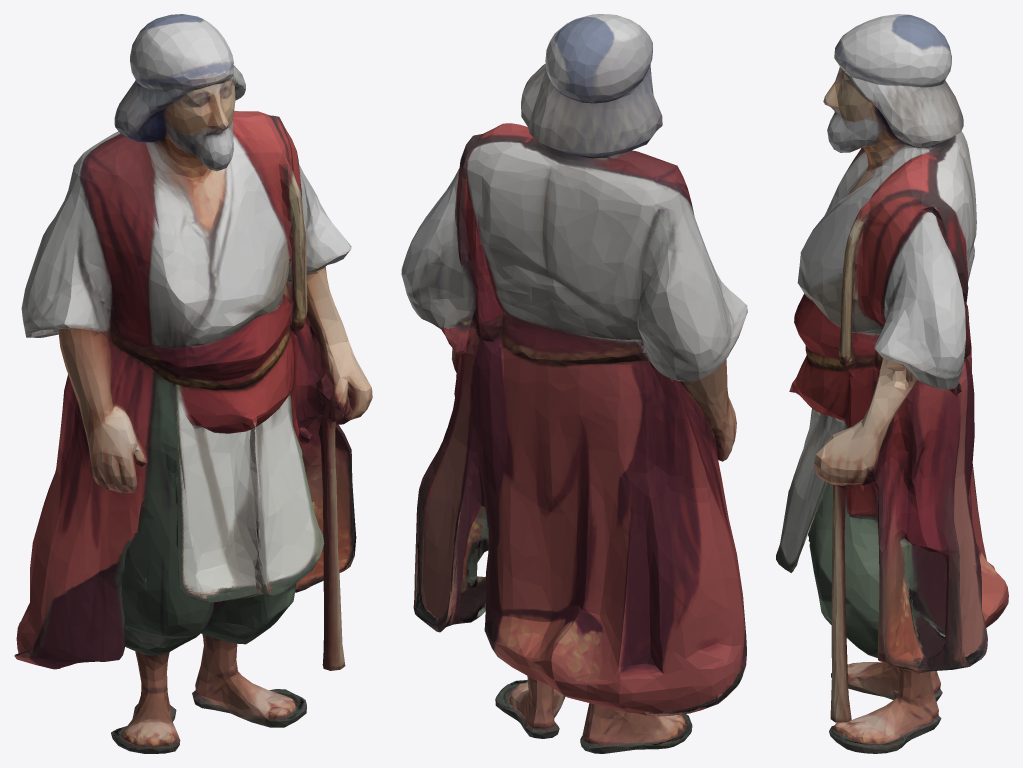
Rendered from anime_commoner_m.glb.
The picture shows the model from 3 angles, left to right: view 1: azimuth 30°, elevation 25°; view 2: azimuth 150°, elevation 25°; view 3: azimuth 270°, elevation 25°; orthographic projection. The views are drawn at different scales.
Visible parts, largest first — view 1: world; view 2: world; view 3: world.
Part boxes in pixels (box(x1,y1,x2,y2)): world: box(14, 14, 372, 753); world: box(401, 14, 747, 753); world: box(776, 14, 1008, 753).
Bounding box in the file's own units: 0.4719 × 0.9986 × 0.3057.
1 material, 1 textured.
